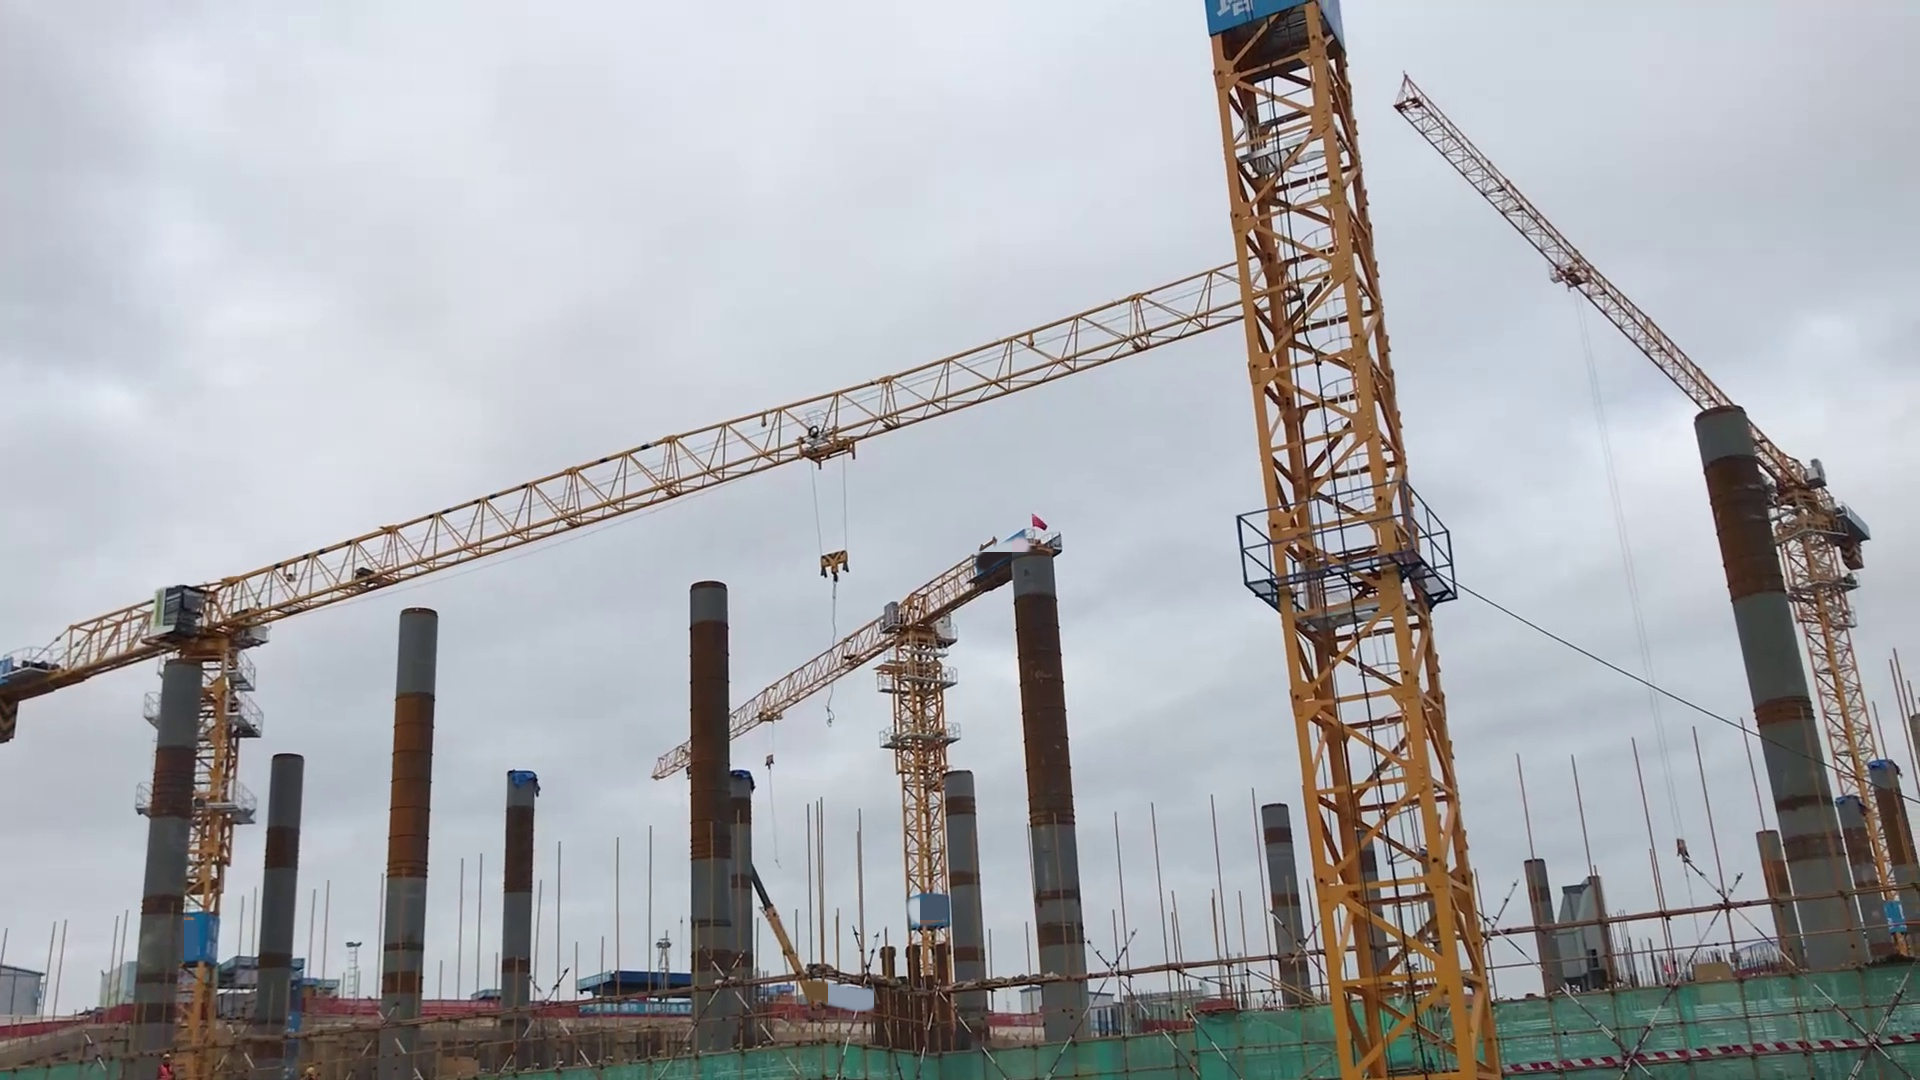hook: (802, 542, 872, 588)
